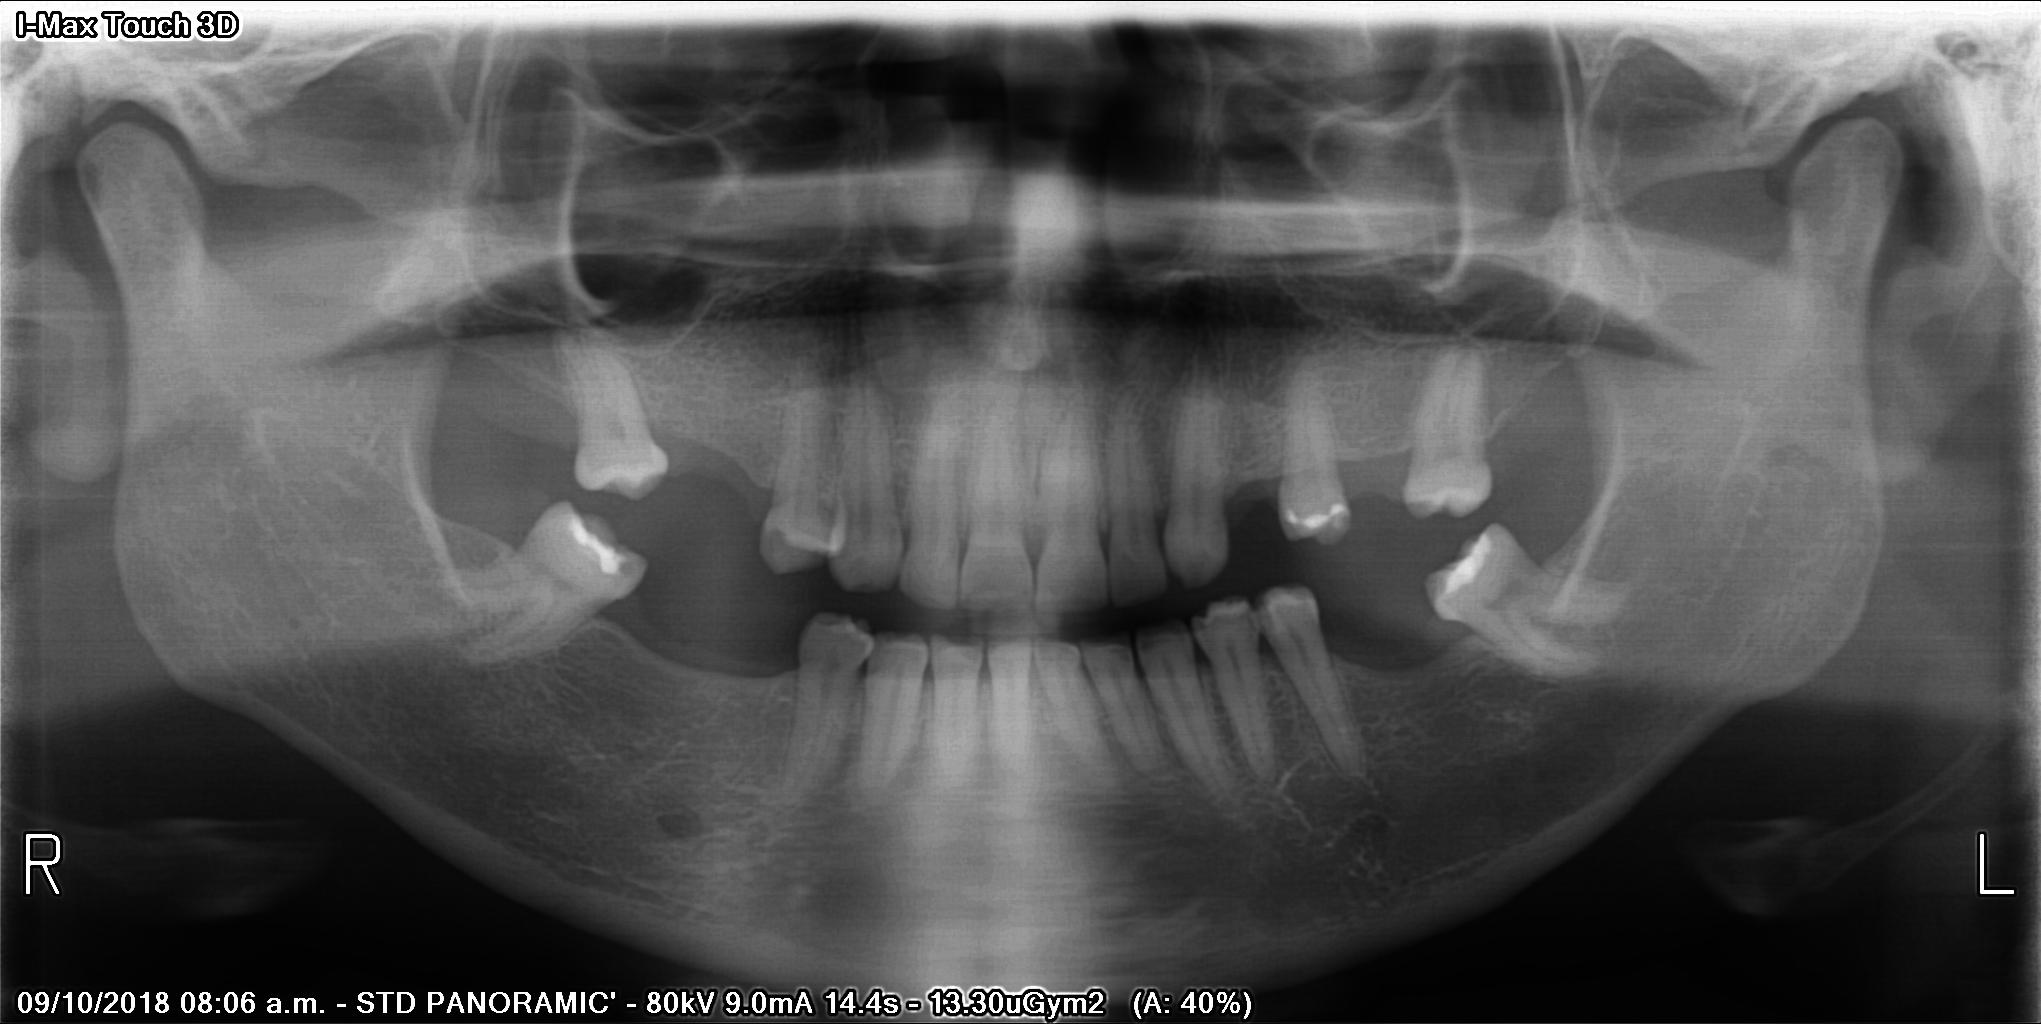Çürük: (1425, 530, 1508, 606), (558, 516, 625, 590), (1268, 499, 1358, 545)
